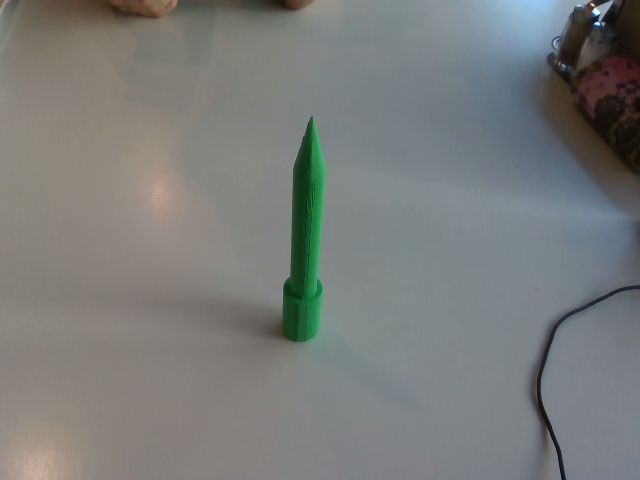Probe: (279, 111, 330, 344)
